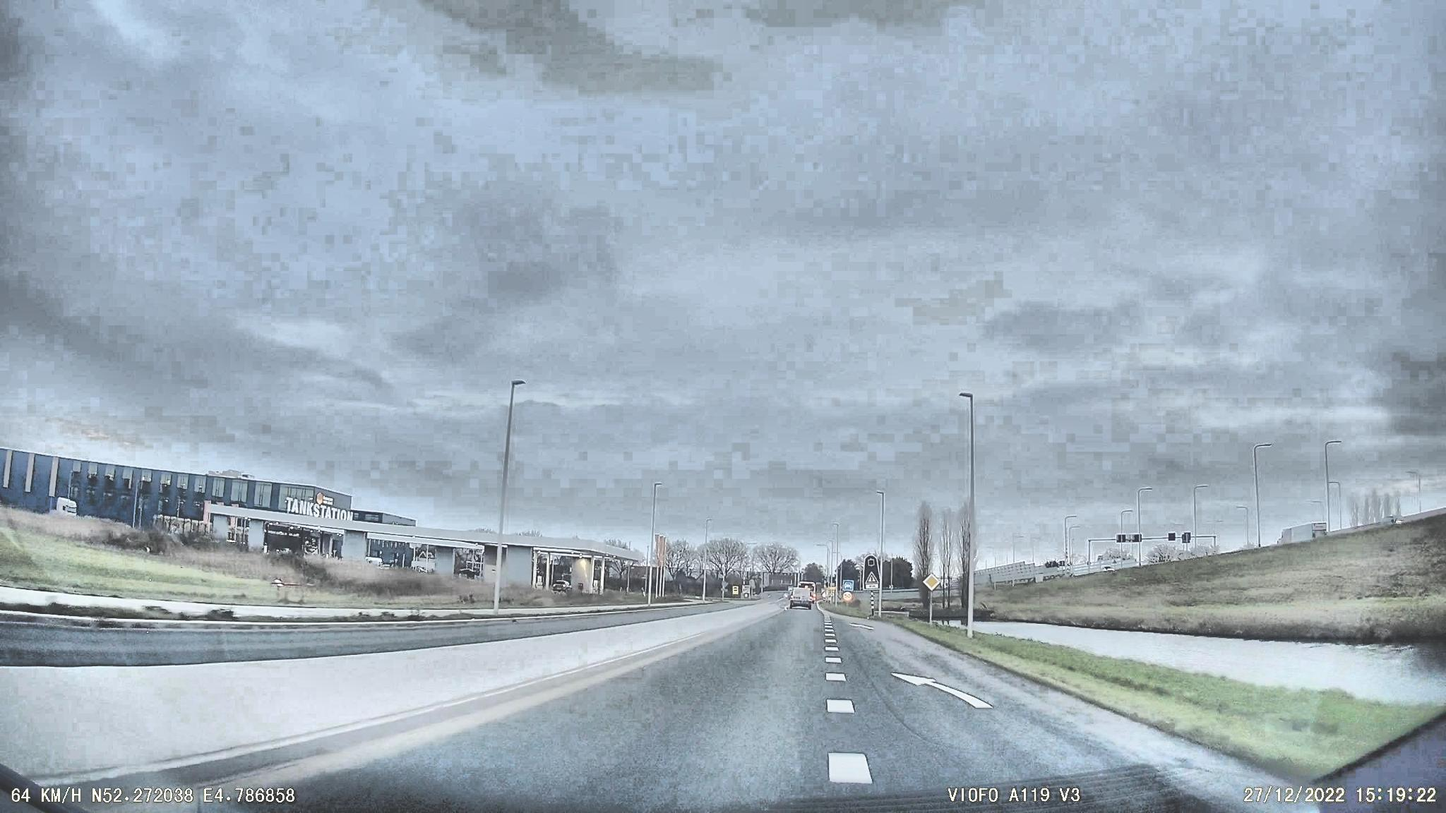Roads: (291, 607, 1322, 813)
